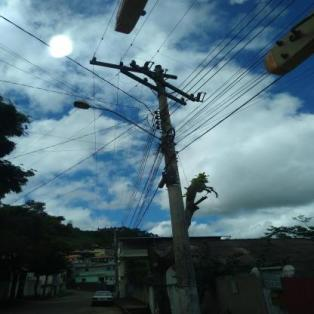Poste: (148, 62, 204, 314)
